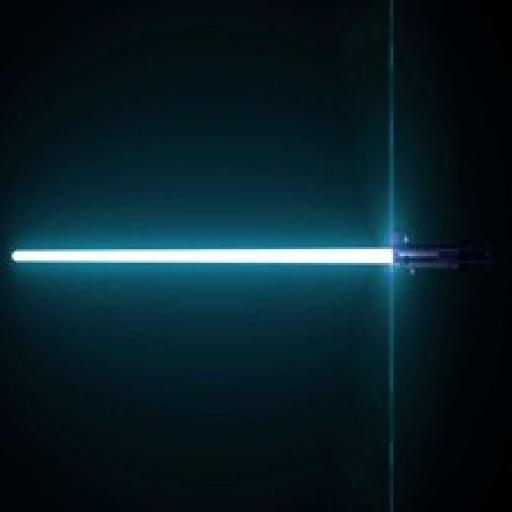lightsaber: (14, 235, 497, 274)
